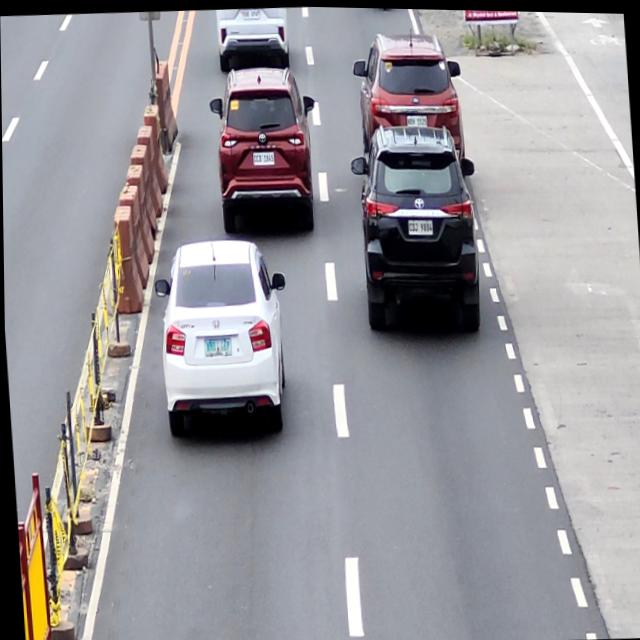Car: (347, 119, 487, 336), (153, 238, 293, 447), (208, 64, 321, 241), (352, 27, 466, 178), (215, 5, 292, 69)
License-Plate: (201, 335, 231, 357), (406, 217, 433, 234), (252, 151, 274, 165), (407, 114, 427, 127), (243, 7, 260, 19)
